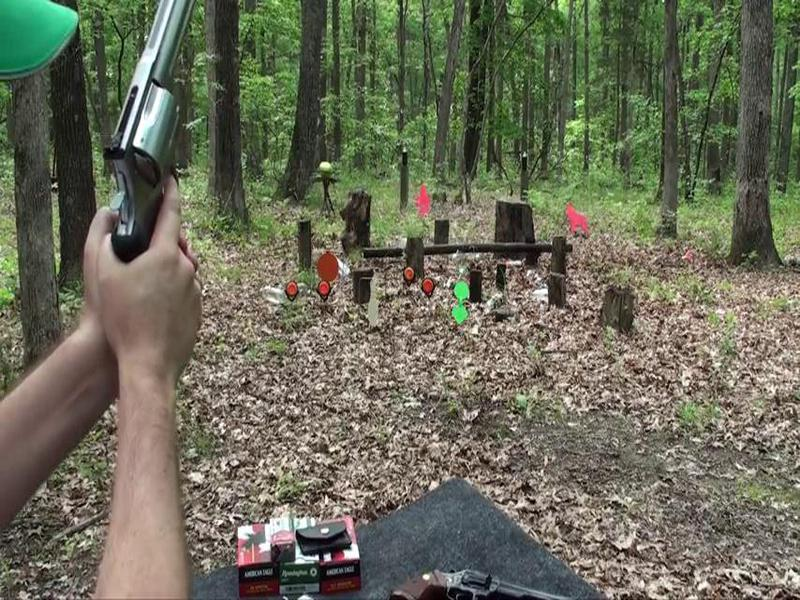Revolver: (56, 1, 225, 311)
